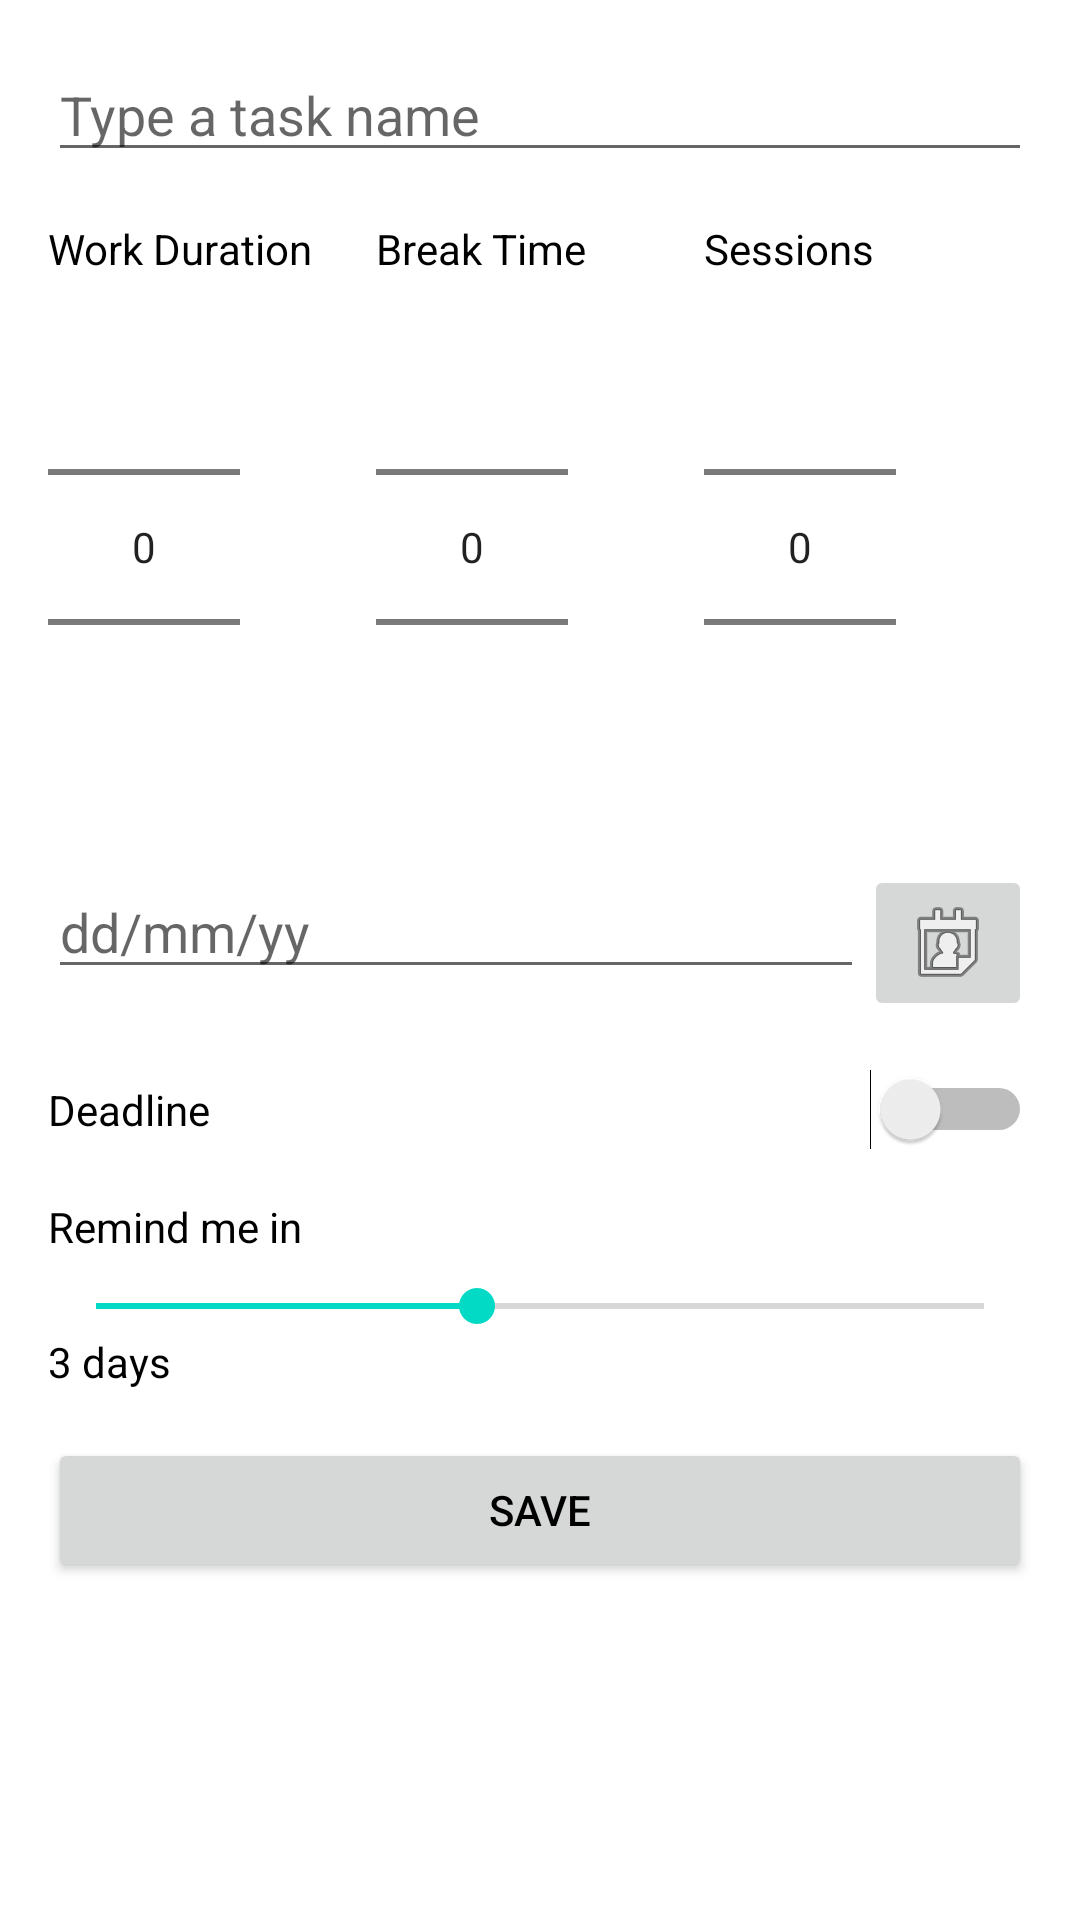

Where to tap for icons on this 1080*1920 app screen, as [x,y]:
Select date: [948,943]
